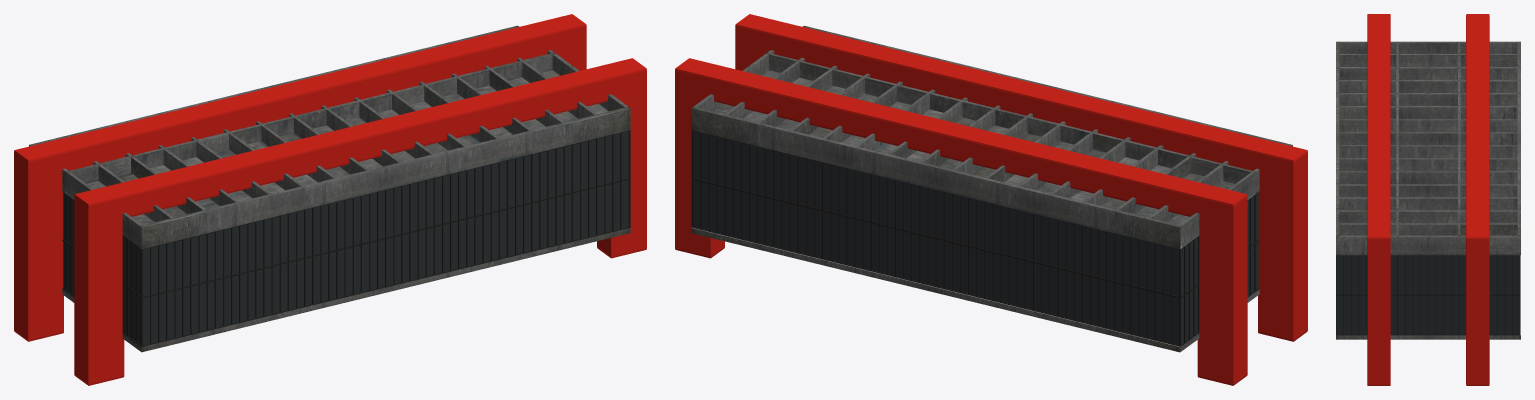
Rendered from masp.glb.
The picture shows the model from 3 angles, left to right: view 1: azimuth 30°, elevation 25°; view 2: azimuth 150°, elevation 25°; view 3: azimuth 270°, elevation 25°; orthographic projection. The views are drawn at different scales.
Visible parts, largest first — view 1: Colunas, Janelas, Teto, Teto Inferior; view 2: Colunas, Janelas, Teto, Teto Inferior; view 3: Teto, Colunas, Janelas, Teto Inferior.
Boxes of the visible parts, x1=… form: Colunas: x1=14, y1=14, x2=646, y2=385; Janelas: x1=62, y1=130, x2=630, y2=346; Teto: x1=29, y1=25, x2=630, y2=249; Teto Inferior: x1=62, y1=228, x2=630, y2=352; Colunas: x1=675, y1=14, x2=1307, y2=385; Janelas: x1=691, y1=130, x2=1259, y2=346; Teto: x1=691, y1=25, x2=1292, y2=249; Teto Inferior: x1=691, y1=227, x2=1259, y2=352; Teto: x1=1336, y1=41, x2=1520, y2=255; Colunas: x1=1367, y1=14, x2=1489, y2=385; Janelas: x1=1336, y1=255, x2=1520, y2=335; Teto Inferior: x1=1336, y1=255, x2=1520, y2=339.
Size of the model in its own units: 1501 by 466 by 524.
Materials: 4 (1 with a texture image).
